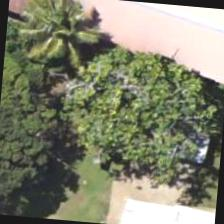Kelapa_Sawit: (10, 0, 109, 95)
